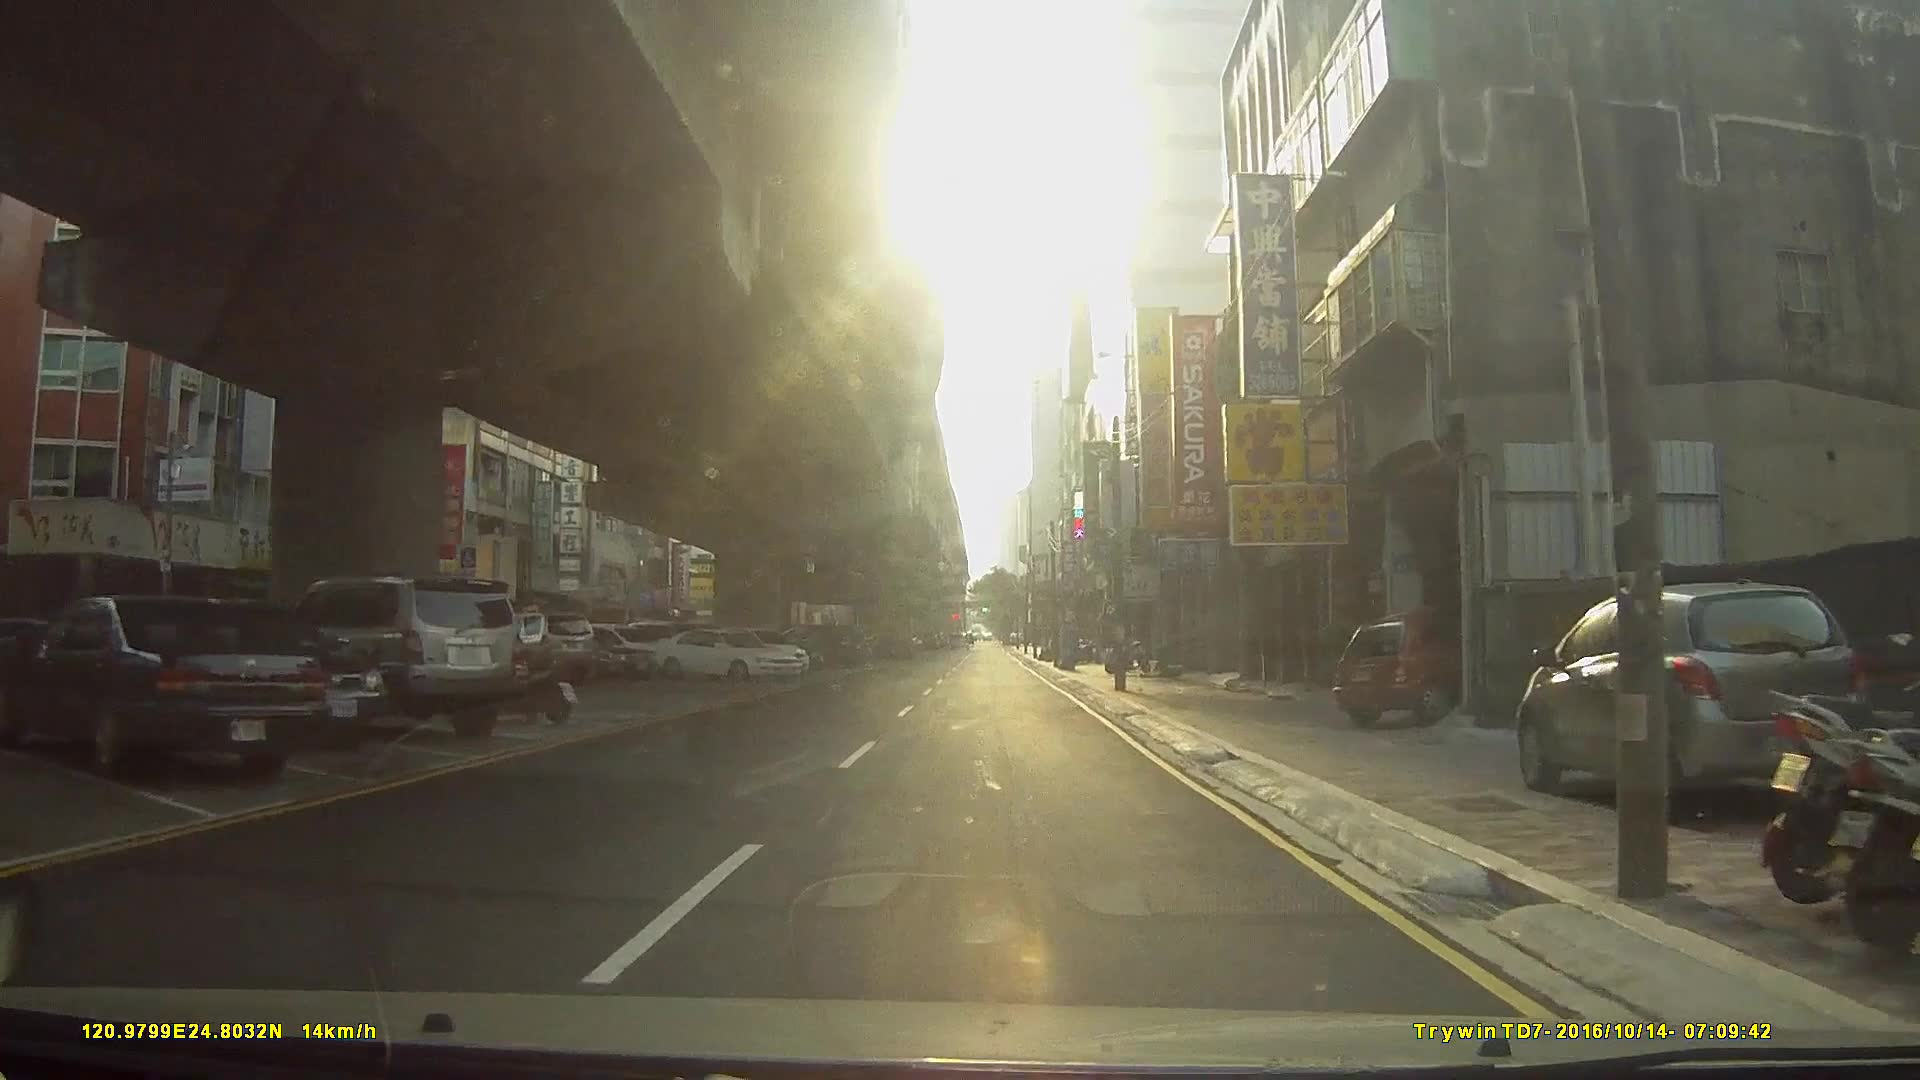vehicle: (1515, 576, 1869, 811), (0, 592, 328, 778), (266, 572, 531, 737), (1333, 605, 1505, 724), (504, 624, 655, 684), (646, 622, 802, 680), (477, 611, 595, 680)
